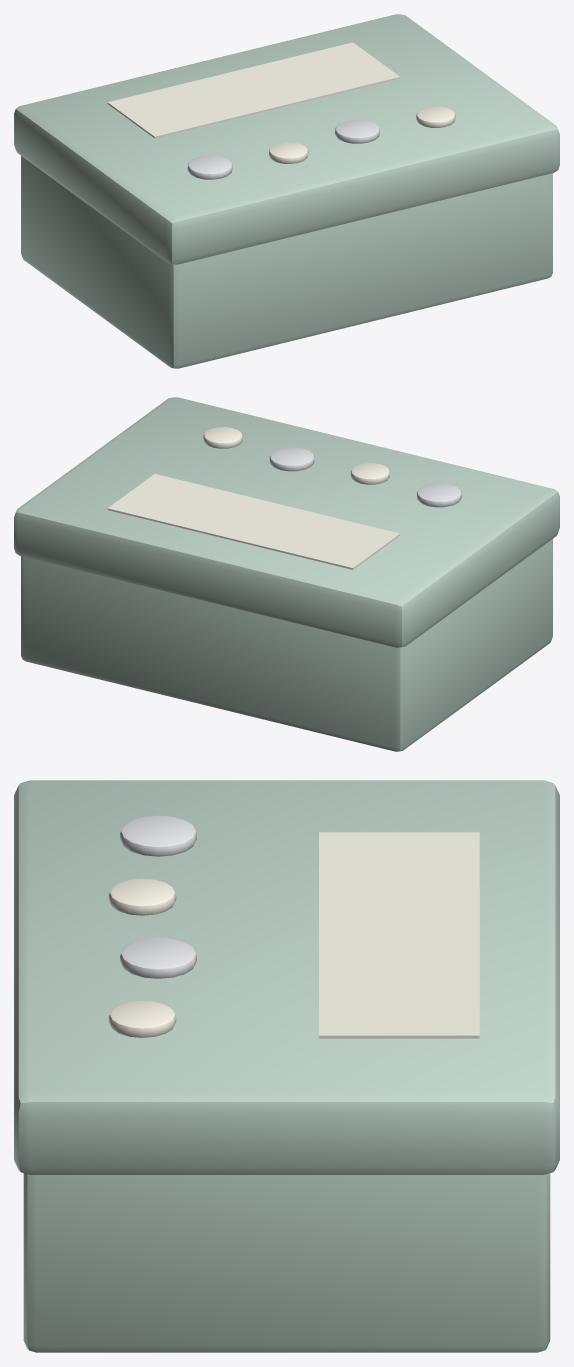
Rendered from button_box.glb.
3 views of the same model, one above another, from view 1: azimuth 30°, elevation 25°; view 2: azimuth 150°, elevation 25°; view 3: azimuth 270°, elevation 25° (orthographic). The views are drawn at different scales.
Visible parts, largest first — view 1: button_box; view 2: button_box; view 3: button_box.
Boxes of the visible parts, <box> form: button_box: <box>14,14,559,368</box>; button_box: <box>14,397,559,751</box>; button_box: <box>14,780,559,1352</box>.
Bounding box in the file's own units: 0.24 × 0.094 × 0.17.
